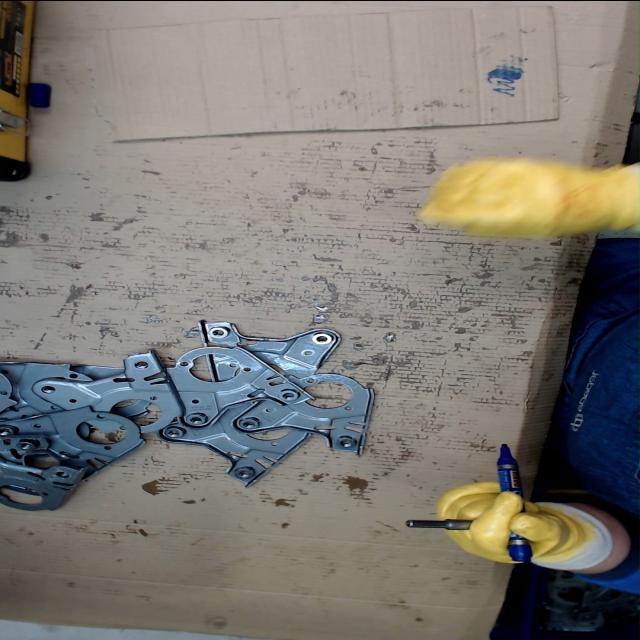hands: (416, 153, 640, 238), (434, 479, 590, 566)
